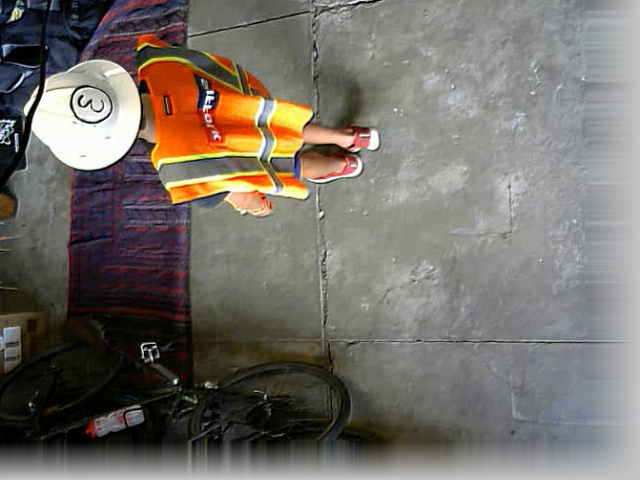three: (70, 86, 111, 124)
